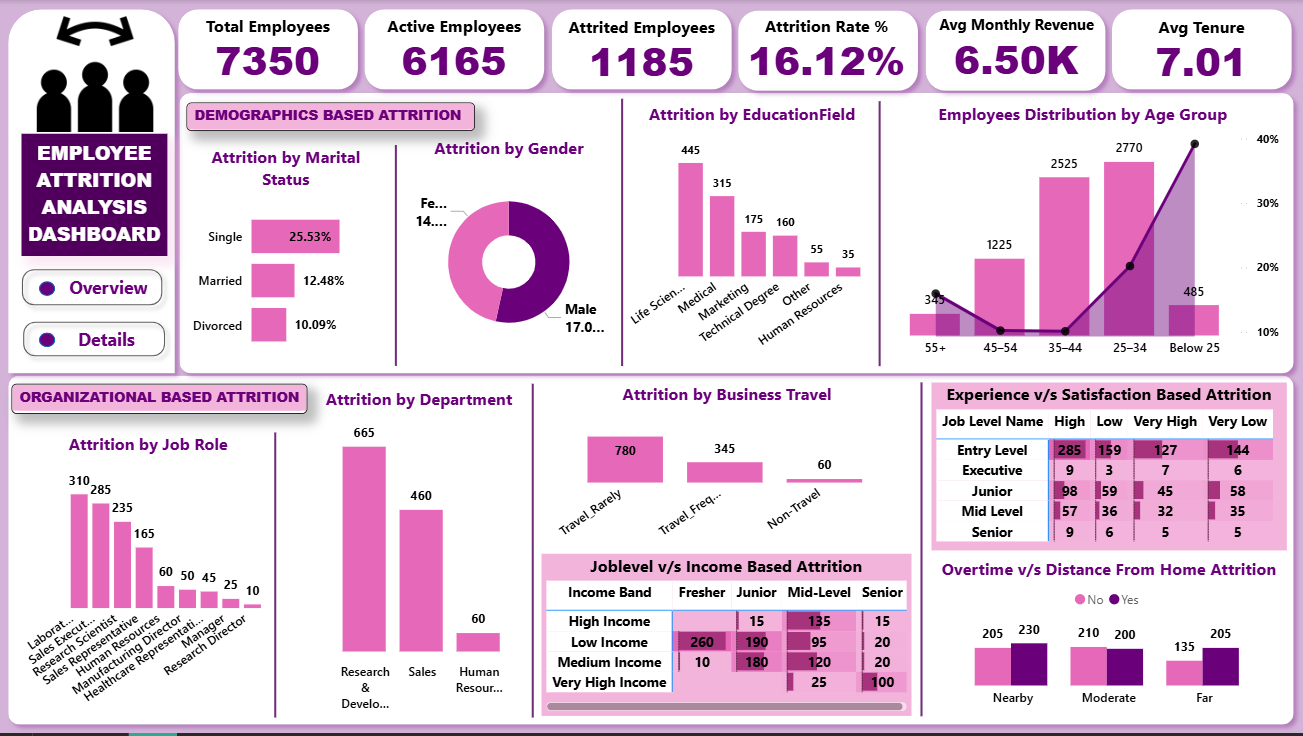

The page's visual inventory and layout, read from the dashboard file:
{"tool":"powerbi","page":{"name":"Overview","canvas":[1280,720],"ordinal":0},"visuals":[{"type":"shape","box":[350.2,0,194.4,96.9],"z":0,"group":"g1"},{"type":"shape","box":[0,359.5,1279.8,360.7],"z":0},{"type":"shape","box":[533.5,0,194.4,96.9],"z":1000,"group":"g1"},{"type":"shape","box":[168.1,82.2,1111.7,293.3],"z":1000},{"type":"shape","box":[0,0,181.6,375.5],"z":2000},{"type":"shape","box":[716.8,1.2,194.4,96.9],"z":2000,"group":"g1"},{"type":"shape","box":[900.1,1.2,194.4,96.9],"z":3000,"group":"g1"},{"type":"donutChart","title":"Attrition by Gender","fields":{"Category":["hr_attrition_cleaned_data.gender"],"Y":["new_measures.Attrition Rate %"]},"box":[401.2,133.7,198.8,225.8],"z":3000},{"type":"group","id":"g1","title":"Group 1","box":[166.9,0,1111.7,98.2],"z":4000},{"type":"shape","box":[1083.4,0,194.4,96.9],"z":4000,"group":"g1"},{"type":"shape","box":[166.9,0,194.4,96.9],"z":5000,"group":"g1"},{"type":"lineStackedColumnComboChart","title":"Employees Distribution by Age Group","fields":{"Category":["hr_attrition_cleaned_data.Age Group"],"Y":["new_measures.Total Employees"],"Y2":["new_measures.Attrition Rate %"]},"box":[863.8,100.6,400,258.9],"z":5000},{"type":"card","title":"Total Employees","fields":{"Values":["new_measures.Total Employees"]},"box":[180.6,14,167.2,67.7],"z":6000,"group":"g1"},{"type":"clusteredColumnChart","title":"Attrition by EducationField","fields":{"Category":["hr_attrition_cleaned_data.educationfield"],"Y":["new_measures.Attrition Count"]},"box":[614.7,100.6,249.1,258.9],"z":6000},{"type":"card","title":"Active Employees","fields":{"Values":["new_measures.Active Employees"]},"box":[363.7,14,167.2,67.7],"z":7000,"group":"g1"},{"type":"clusteredColumnChart","title":"Attrition by Department","fields":{"Category":["hr_attrition_cleaned_data.department"],"Y":["new_measures.Attrition Count"]},"box":[303.1,380.4,218.4,326.4],"z":7000},{"type":"card","title":"Attrited Employees","fields":{"Values":["new_measures.Attrited Employees"]},"box":[546.8,15.3,167.2,67.7],"z":8000,"group":"g1"},{"type":"barChart","title":"Attrition by Marital Status","fields":{"Category":["hr_attrition_cleaned_data.maritalstatus"],"Y":["new_measures.Attrition Rate %"]},"box":[184.1,142.3,195.1,217.2],"z":8000},{"type":"card","title":"Attrition Rate %","fields":{"Values":["new_measures.Attrition Rate %"]},"box":[728.5,14,167.2,67.7],"z":9000,"group":"g1"},{"type":"clusteredColumnChart","title":"Attrition by Job Role","fields":{"Category":["hr_attrition_cleaned_data.jobrole"],"Y":["new_measures.Attrition Count"]},"box":[22.1,424.5,249.1,278.5],"z":9000},{"type":"card","title":"Avg Monthly Revenue","fields":{"Values":["new_measures.Avg Monthly Income"]},"box":[915.9,14,167.2,67.7],"z":10000,"group":"g1"},{"type":"pivotTable","title":"Experience v/s Satisfaction Based Attrition","fields":{"Columns":["hr_attrition_cleaned_data.satisfactionlevel"],"Values":["new_measures.Attrition Count"],"Rows":["hr_attrition_cleaned_data.Job Level Name"]},"box":[915.3,375.5,348.5,164.4],"z":10000},{"type":"card","title":"Avg Tenure","fields":{"Values":["new_measures.Avg Tenure"]},"box":[1097.6,15.3,167.2,67.7],"z":11000,"group":"g1"},{"type":"clusteredColumnChart","title":"Overtime v/s Distance From Home Attrition","fields":{"Category":["hr_attrition_cleaned_data.Distance Category"],"Y":["new_measures.Attrition Count"],"Series":["hr_attrition_cleaned_data.overtime"]},"box":[915.3,547.2,348.5,155.8],"z":11000},{"type":"clusteredColumnChart","title":"Attrition by Business Travel","fields":{"Category":["hr_attrition_cleaned_data.businesstravel"],"Y":["new_measures.Attrition Count"]},"box":[533.7,375.5,362,164.4],"z":12000},{"type":"pivotTable","title":"Joblevel v/s Income Based Attrition","fields":{"Values":["new_measures.Attrition Count"],"Columns":["hr_attrition_cleaned_data.Experience Level"],"Rows":["hr_attrition_cleaned_data.Income Band"]},"box":[532.5,543.6,363.2,159.5],"z":13000},{"type":"textbox","title":"DEMOGRAPHICS BASED ATTRITION","box":[184.1,100.6,283.4,28.2],"z":14000},{"type":"textbox","title":"ORGANIZATIONAL BASED ATTRITION","box":[12.3,376.7,290.8,29.4],"z":15000},{"type":"textbox","box":[21.6,131.3,142.8,119.7],"z":16000},{"type":"actionButton","box":[13,255.4,155.8,53.4],"z":17000},{"type":"shape","box":[39,275.6,15.9,14.4],"z":18000},{"type":"actionButton","box":[14.4,307.3,157.3,51.9],"z":19000},{"type":"shape","box":[39,326.1,15.9,14.4],"z":20000},{"type":"shape","box":[377.9,142.3,23.3,217.2],"z":21000},{"type":"shape","box":[600,96.9,23.3,262.6],"z":22000},{"type":"shape","box":[852.8,99.4,23.3,260.1],"z":23000},{"type":"shape","box":[895.7,375.5,19.6,327.6],"z":24000},{"type":"shape","box":[514.1,376.7,19.6,327.6],"z":25000},{"type":"shape","box":[261.4,424.5,19.6,279.8],"z":26000},{"type":"image","box":[30.3,15.9,127,114],"z":27000}]}

Visuals, with their boxes in screenshot pixels (x1, y1, x2, y2), scaled from the page's 1280x720 canvas onto the 1303x736 screenshot:
shape: <bbox>356, 0, 554, 99</bbox>
shape: <bbox>0, 367, 1302, 735</bbox>
shape: <bbox>543, 0, 741, 99</bbox>
shape: <bbox>171, 84, 1302, 384</bbox>
shape: <bbox>0, 0, 185, 384</bbox>
shape: <bbox>730, 1, 928, 100</bbox>
shape: <bbox>916, 1, 1114, 100</bbox>
"Attrition by Gender" donutChart: <bbox>408, 137, 611, 367</bbox>
"Group 1" group: <bbox>170, 0, 1302, 100</bbox>
shape: <bbox>1103, 0, 1301, 99</bbox>
shape: <bbox>170, 0, 368, 99</bbox>
"Employees Distribution by Age Group" lineStackedColumnComboChart: <bbox>879, 103, 1287, 367</bbox>
"Total Employees" card: <bbox>184, 14, 354, 84</bbox>
"Attrition by EducationField" clusteredColumnChart: <bbox>626, 103, 879, 367</bbox>
"Active Employees" card: <bbox>370, 14, 540, 84</bbox>
"Attrition by Department" clusteredColumnChart: <bbox>309, 389, 531, 723</bbox>
"Attrited Employees" card: <bbox>557, 16, 727, 85</bbox>
"Attrition by Marital Status" barChart: <bbox>187, 145, 386, 367</bbox>
"Attrition Rate %" card: <bbox>742, 14, 912, 84</bbox>
"Attrition by Job Role" clusteredColumnChart: <bbox>22, 434, 276, 719</bbox>
"Avg Monthly Revenue" card: <bbox>932, 14, 1103, 84</bbox>
"Experience v/s Satisfaction Based Attrition" pivotTable: <bbox>932, 384, 1287, 552</bbox>
"Avg Tenure" card: <bbox>1117, 16, 1288, 85</bbox>
"Overtime v/s Distance From Home Attrition" clusteredColumnChart: <bbox>932, 559, 1287, 719</bbox>
"Attrition by Business Travel" clusteredColumnChart: <bbox>543, 384, 912, 552</bbox>
"Joblevel v/s Income Based Attrition" pivotTable: <bbox>542, 556, 912, 719</bbox>
"DEMOGRAPHICS BASED ATTRITION" textbox: <bbox>187, 103, 476, 132</bbox>
"ORGANIZATIONAL BASED ATTRITION" textbox: <bbox>13, 385, 309, 415</bbox>
textbox: <bbox>22, 134, 167, 257</bbox>
actionButton: <bbox>13, 261, 172, 316</bbox>
shape: <bbox>40, 282, 56, 296</bbox>
actionButton: <bbox>15, 314, 175, 367</bbox>
shape: <bbox>40, 333, 56, 348</bbox>
shape: <bbox>385, 145, 408, 367</bbox>
shape: <bbox>611, 99, 634, 367</bbox>
shape: <bbox>868, 102, 892, 367</bbox>
shape: <bbox>912, 384, 932, 719</bbox>
shape: <bbox>523, 385, 543, 720</bbox>
shape: <bbox>266, 434, 286, 720</bbox>
image: <bbox>31, 16, 160, 133</bbox>
